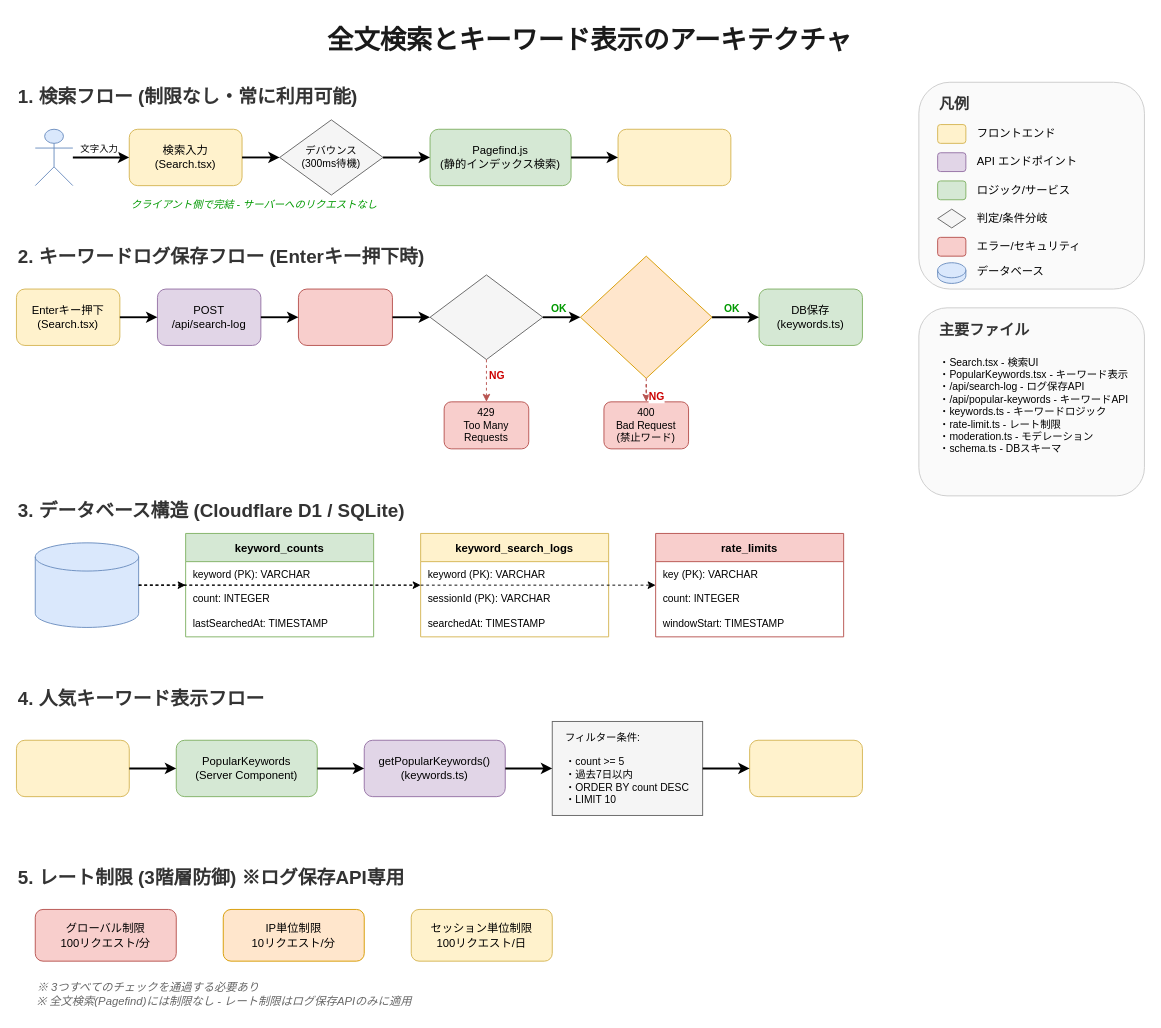
This 1161x1028 diagram has some shape labels left out. Each missing label, with the box of its shape:
Cloudflare D1 (SQLite): (34, 542, 139, 627)
TagUI キーワード表示: (749, 739, 862, 797)
セッションID 取得/生成 (Cookie): (298, 288, 392, 345)
ホームページ (page.tsx): (16, 739, 129, 797)
モデレーション (moderation.ts) 1. leo-profanity 2. OpenAI API: (580, 255, 712, 378)
ユーザー: (34, 128, 73, 186)
レート制限 チェック (rate-limit.ts): (429, 274, 543, 360)
検索結果表示 (最大10件): (617, 128, 731, 186)
